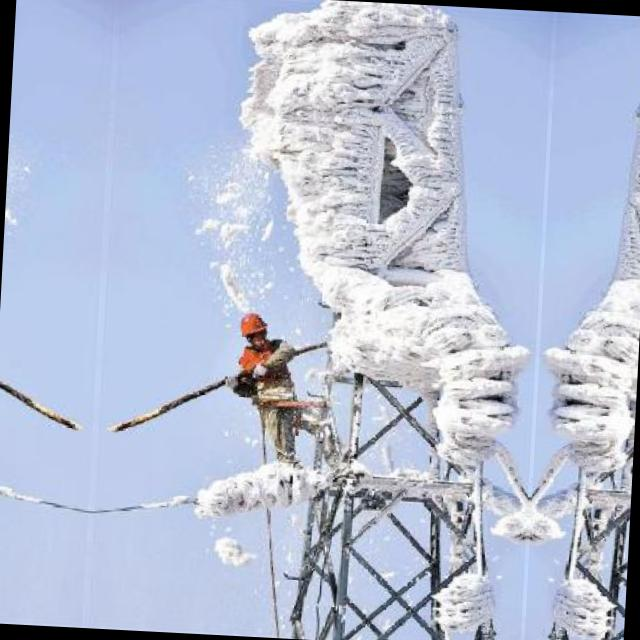helmet: (232, 306, 275, 344)
